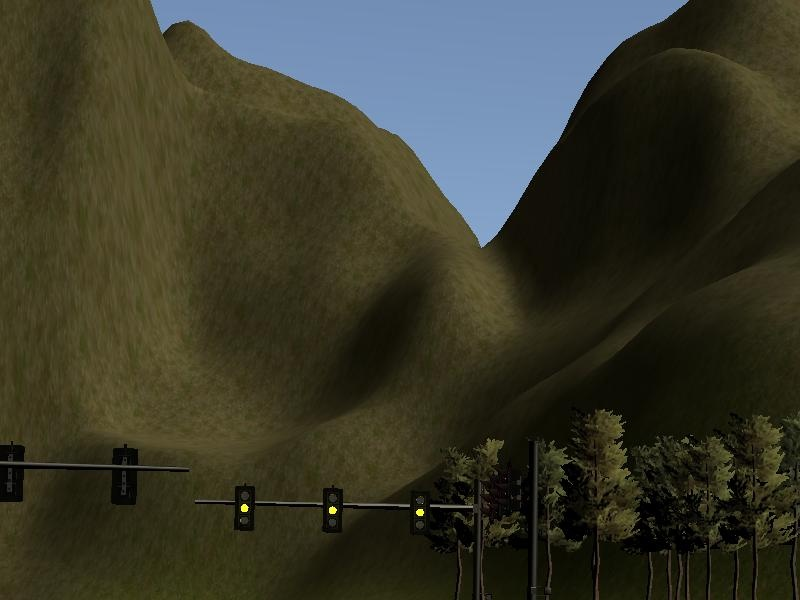yellow: (234, 485, 256, 533), (322, 488, 344, 535), (408, 492, 429, 537)
